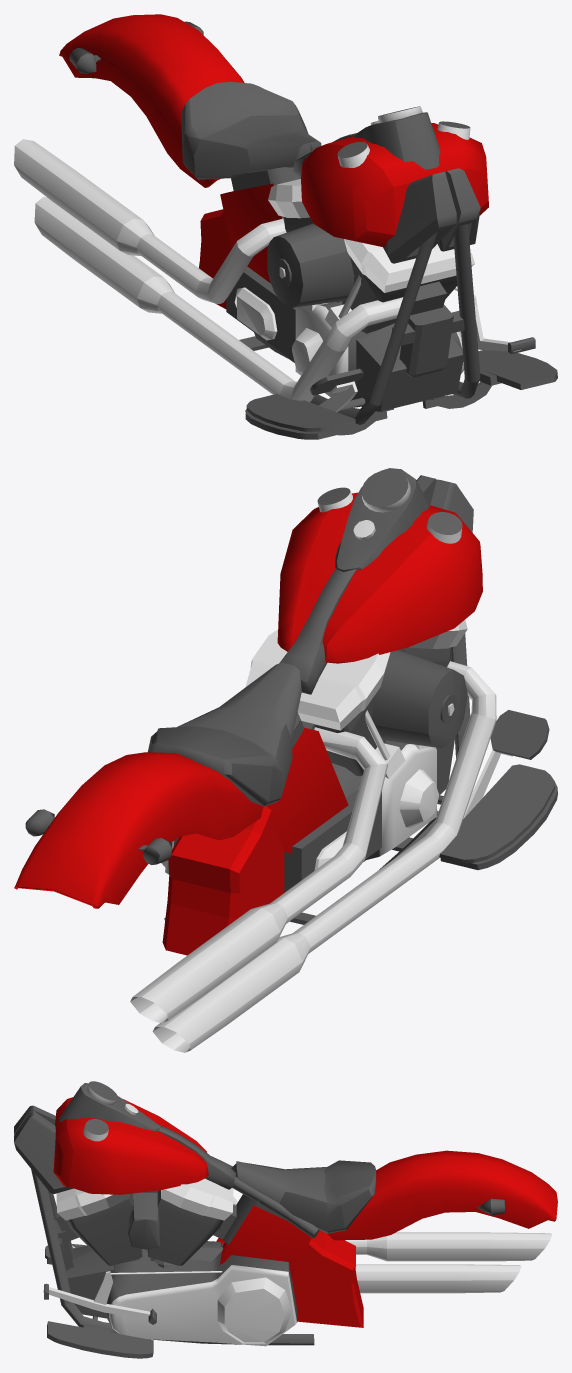
Rendered from bike_chop_body.fbx.
3 views of the same model, one above another, from view 1: azimuth 30°, elevation 25°; view 2: azimuth 150°, elevation 25°; view 3: azimuth 270°, elevation 25° (orthographic). The views are drawn at different scales.
Visible parts, largest first — view 1: chop_body1; view 2: chop_body1; view 3: chop_body1.
Part boxes in pixels (x1=…): chop_body1: x1=14, y1=14, x2=557, y2=439; chop_body1: x1=14, y1=468, x2=557, y2=1052; chop_body1: x1=14, y1=1081, x2=557, y2=1358.
Bounding box in the file's own units: 74.18 × 83.94 × 172.
